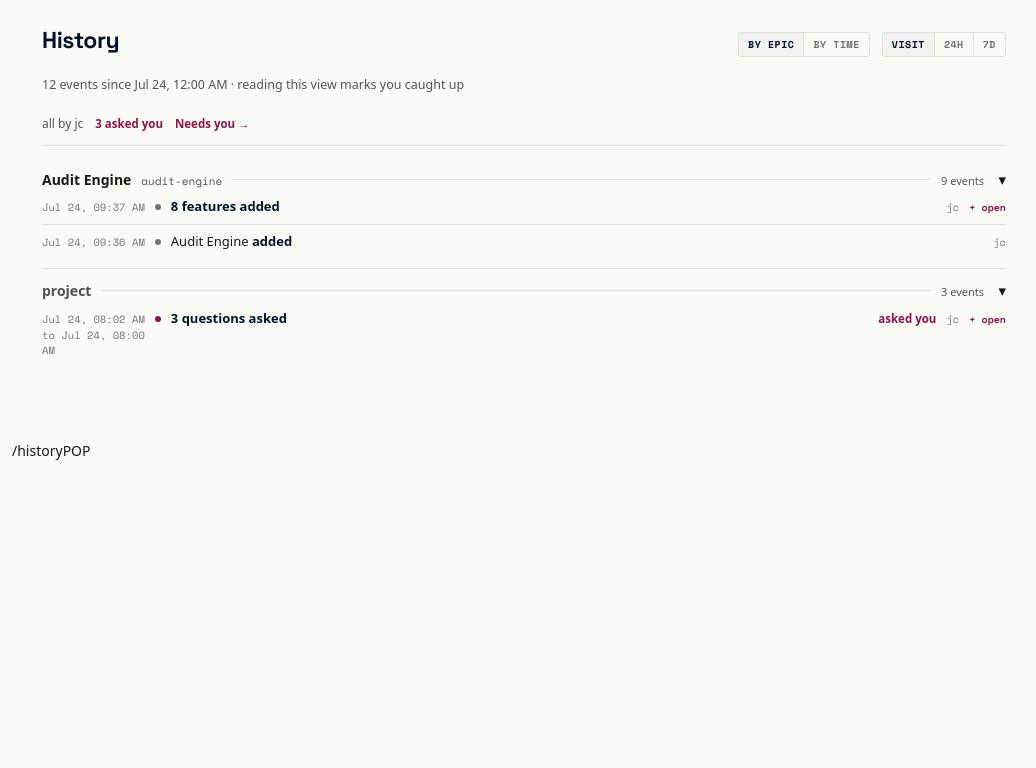
Test case: History view: burst collapsing › keeps every collapsed entry reachable, one click, no refetch
Expected: the text "12 events" is shown, [42,76,464,92]
Step 1. Click the heading "Jul 24, 09:37 AM 8 features added jc + open" → (93, 207), box [42,197,1006,215]
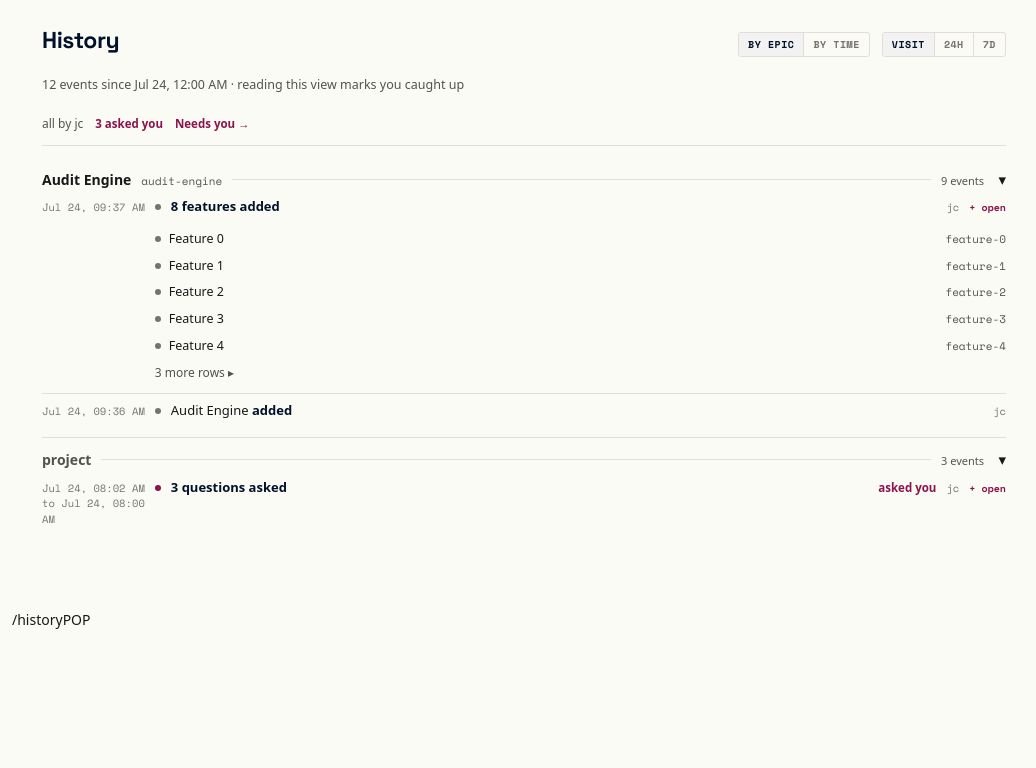
Now the number of list items with class "recap-entry" is 5, box [155,226,1006,253]; [155,252,1006,279]; [155,279,1006,306]; [155,306,1006,333]; [155,333,1006,360]
Step 2. Click the button "3 more rows ▸" → (194, 372), box [155,360,234,384]
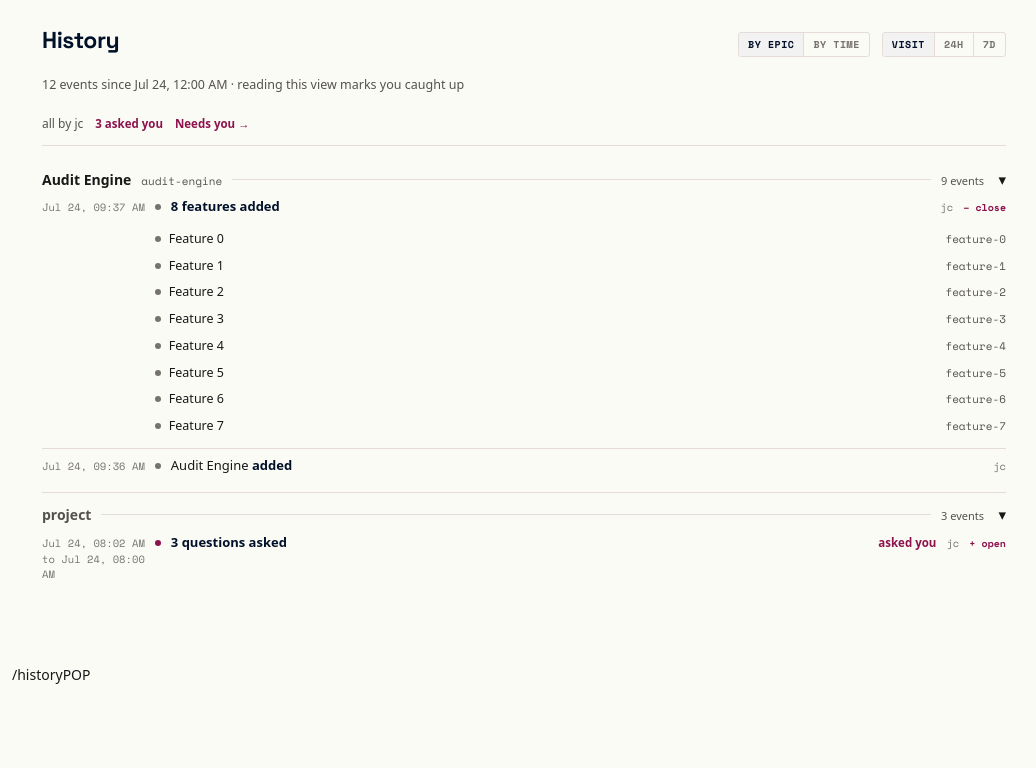
Now the number of list items with class "recap-entry" is 8
